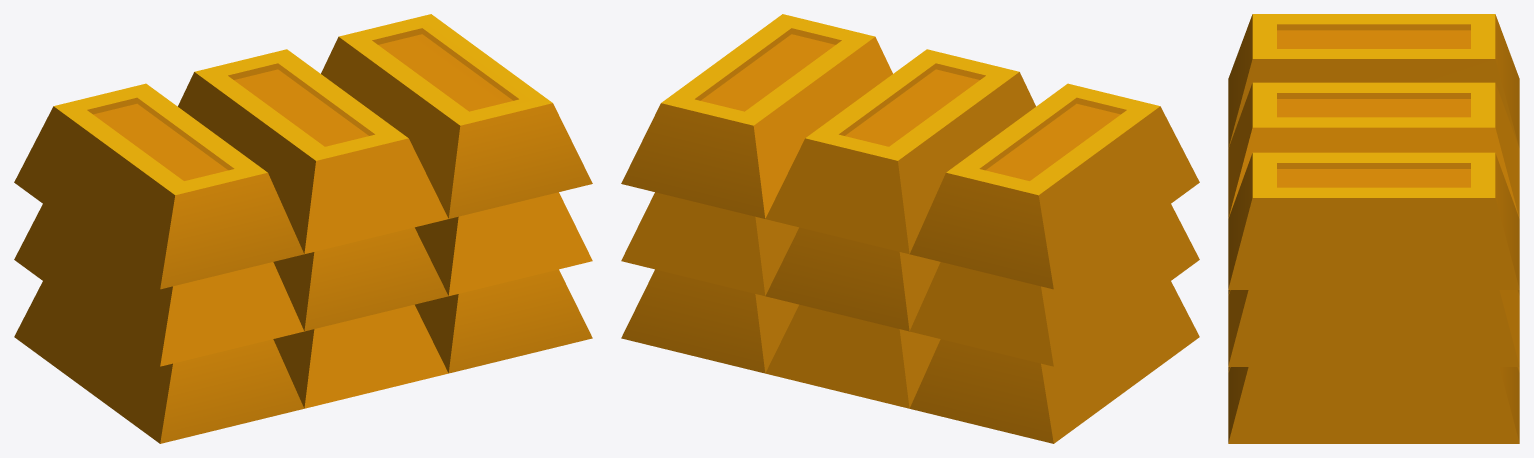
File: Gold Bars.fbx
3 views of the same model, side by side, from view 1: azimuth 30°, elevation 25°; view 2: azimuth 150°, elevation 25°; view 3: azimuth 270°, elevation 25° (orthographic).
Parts seen in each view (by area): view 1: Gold_Bars; view 2: Gold_Bars; view 3: Gold_Bars.
Boxes of the visible parts, x1,y1,x2,y2 form: Gold_Bars: [14, 14, 592, 443]; Gold_Bars: [621, 14, 1199, 443]; Gold_Bars: [1228, 14, 1519, 443].
Size of the model in its own units: 55.33 by 28.48 by 32.35.
